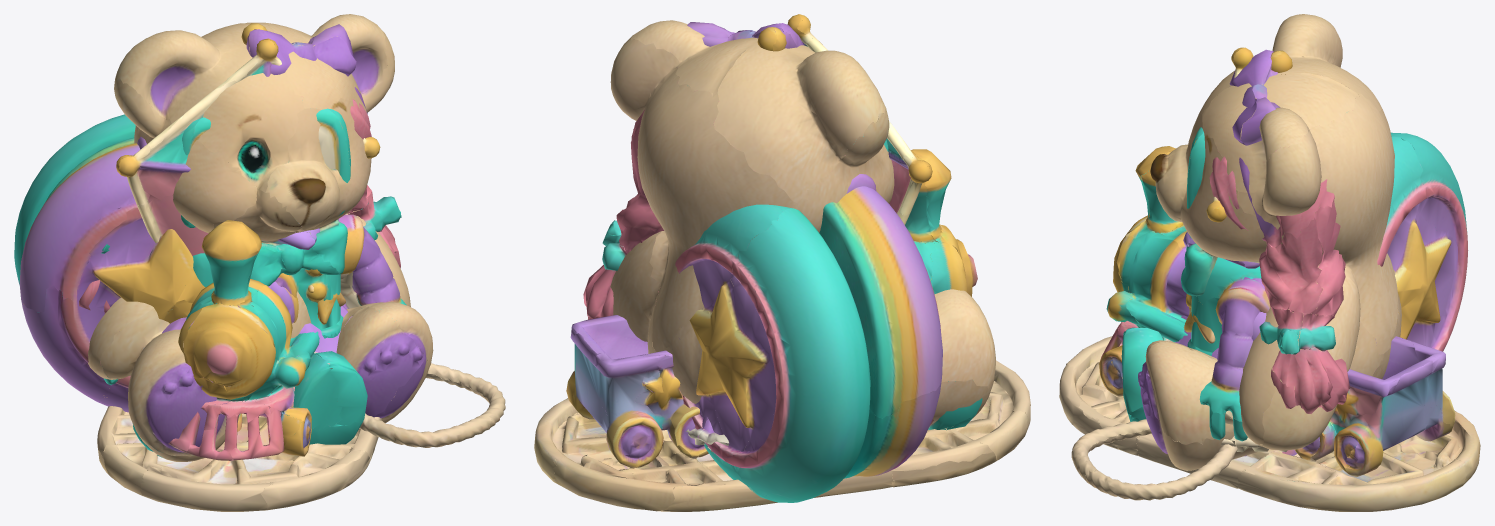
The model's file is store_items_sheet_08_mobile.glb.
3 renders of one model, left to right at view 1: azimuth 30°, elevation 25°; view 2: azimuth 150°, elevation 25°; view 3: azimuth 270°, elevation 25°, orthographic. The views are drawn at different scales.
Parts seen in each view (by area): view 1: toy_bear, toy_train, toy_yoyo, toy_doll, toy_robot, toy_kite; view 2: toy_yoyo, toy_bear, toy_train, toy_doll, toy_kite, toy_robot; view 3: toy_bear, toy_train, toy_doll, toy_yoyo, toy_robot, toy_kite.
Part boxes in pixels (bbox=[...]): toy_bear: bbox=[88, 14, 433, 461]; toy_train: bbox=[97, 220, 381, 511]; toy_yoyo: bbox=[14, 114, 505, 447]; toy_doll: bbox=[79, 24, 401, 457]; toy_robot: bbox=[103, 23, 406, 431]; toy_kite: bbox=[116, 38, 380, 289]; toy_yoyo: bbox=[675, 186, 942, 502]; toy_bear: bbox=[610, 20, 995, 427]; toy_train: bbox=[534, 149, 1030, 511]; toy_doll: bbox=[583, 22, 982, 451]; toy_kite: bbox=[787, 14, 932, 224]; toy_robot: bbox=[757, 27, 888, 415]; toy_bear: bbox=[1138, 14, 1401, 470]; toy_train: bbox=[1059, 146, 1480, 511]; toy_doll: bbox=[1121, 49, 1349, 452]; toy_yoyo: bbox=[1071, 132, 1468, 500]; toy_robot: bbox=[1186, 50, 1296, 456]; toy_kite: bbox=[1206, 47, 1266, 340].
Size of the model in its own units: 1.55 by 1.55 by 1.55.
Materials: 1 (1 with a texture image).
